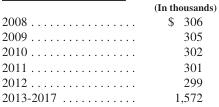table: (1, 0, 215, 103)
table column: (104, 0, 215, 103), (1, 0, 104, 103)
table column header: (1, 0, 215, 12)
table row: (1, 12, 215, 28), (1, 73, 215, 89), (1, 28, 215, 43), (1, 43, 215, 58), (1, 58, 215, 73), (1, 89, 215, 103), (1, 0, 215, 12)
